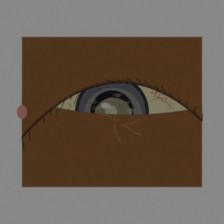corneal_ulcer: (83, 91, 144, 140)
